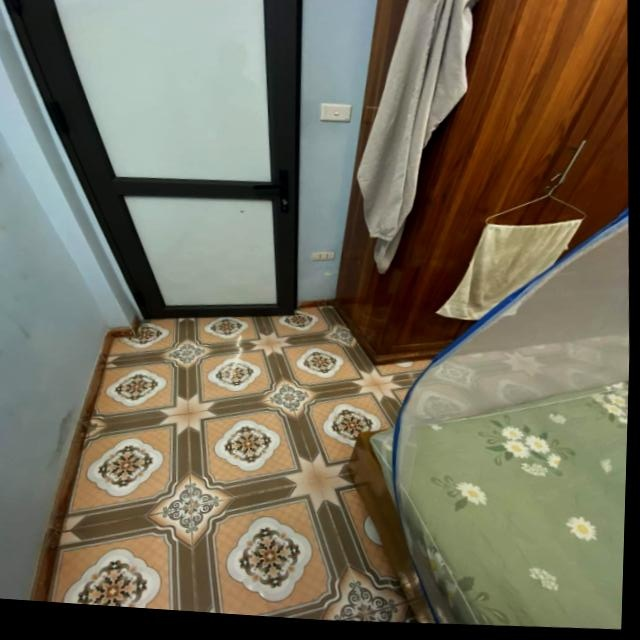outlet: (313, 249, 336, 262)
